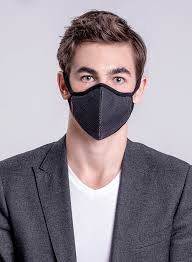Mask: (62, 36, 140, 137)
